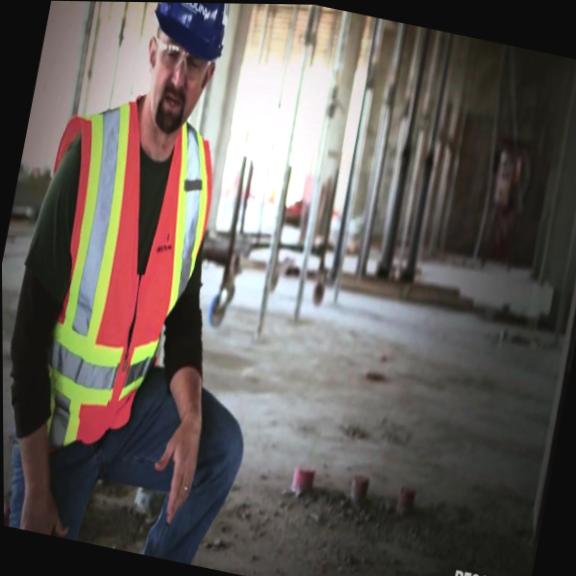safety_vest: (1, 77, 230, 468)
